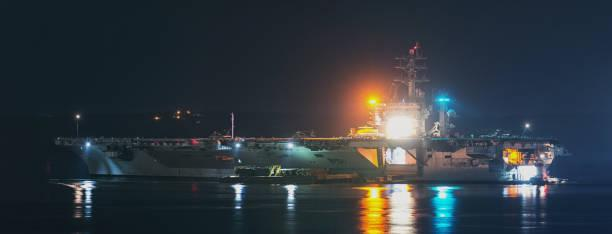MIL_Ship: (50, 53, 568, 185)
